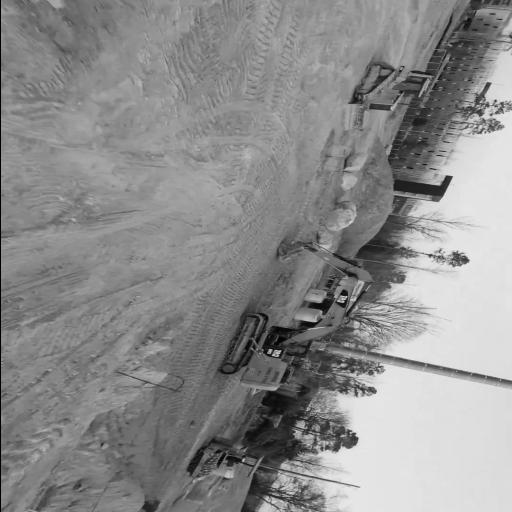uav: (246, 338, 272, 364)
